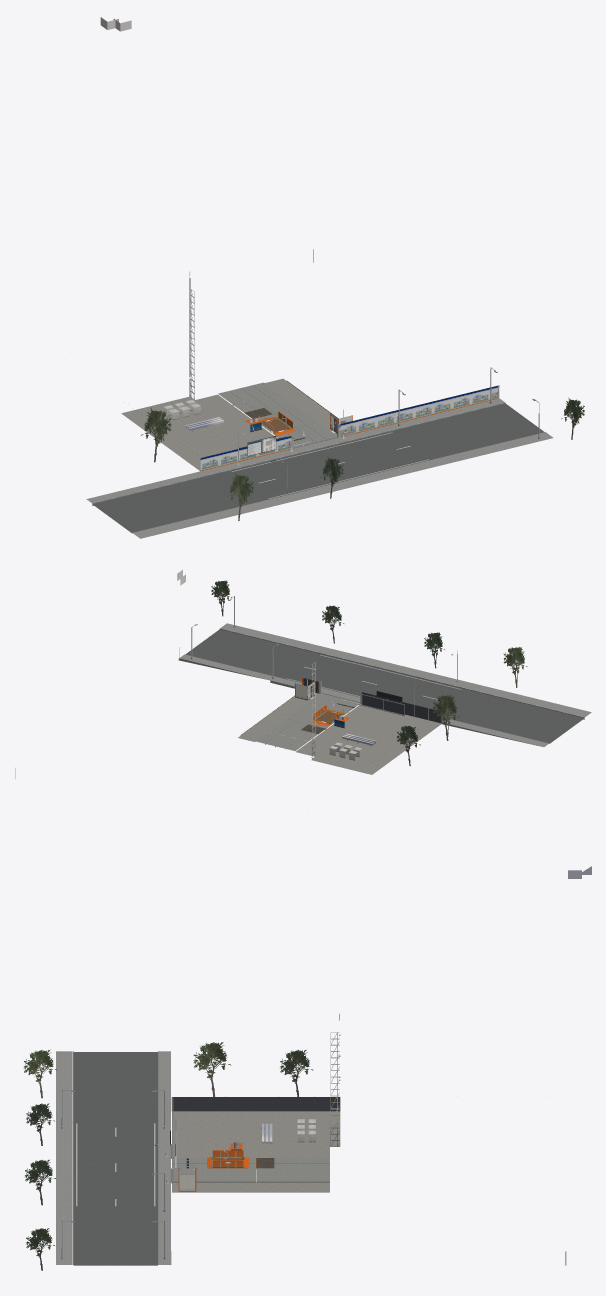
The model's file is z-gate-lite.full.3d929ebc.glb.
3 views of the same model, one above another, from view 1: azimuth 30°, elevation 25°; view 2: azimuth 150°, elevation 25°; view 3: azimuth 270°, elevation 25° (orthographic). The views are drawn at different scales.
Parts seen in each view (by area): view 1: gate_asphalt, gate_paver, gate_gravel, gate_pag, gate_ai_banner_a, gate_card_tree, gate_satin, gate_ai_banner_b, gate_fx; view 2: gate_asphalt, gate_gravel, gate_paver, gate_card_tree, gate_pag, gate_satin, gate_sheet, gate_metal_satin, gate_fx; view 3: gate_asphalt, gate_gravel, gate_paver, gate_card_tree, gate_pag, gate_sheet, gate_satin, gate_metal_satin, gate_fx, gate_card_scaffold.
Boxes of the visible parts, x1,y1,x2,y2 form: gate_asphalt: (93, 403, 544, 533); gate_paver: (86, 398, 553, 538); gate_gravel: (121, 378, 337, 470); gate_pag: (218, 382, 337, 448); gate_ai_banner_a: (200, 388, 489, 470); gate_card_tree: (141, 397, 584, 520); gate_satin: (92, 385, 545, 532); gate_ai_banner_b: (239, 386, 499, 461); gate_fx: (100, 17, 540, 499); gate_asphalt: (185, 629, 583, 743); gate_gravel: (238, 692, 441, 774); gate_paver: (179, 623, 591, 747); gate_card_tree: (211, 580, 527, 766); gate_pag: (255, 693, 360, 750); gate_satin: (184, 628, 584, 743); gate_sheet: (303, 678, 442, 723); gate_metal_satin: (15, 596, 457, 778); gate_fx: (177, 570, 457, 746); gate_asphalt: (73, 1052, 157, 1265); gate_gravel: (172, 1111, 340, 1192); gate_paver: (56, 1051, 170, 1264); gate_card_tree: (23, 1042, 313, 1270); gate_pag: (172, 1158, 329, 1182); gate_sheet: (172, 1097, 340, 1156); gate_satin: (73, 1051, 339, 1264); gate_metal_satin: (61, 1090, 566, 1265); gate_fx: (61, 866, 591, 1259); gate_card_scaffold: (330, 1032, 339, 1146).
Size of the model in its own units: 77.5 by 47.8 by 82.34.
Materials: 26 (23 with a texture image).
